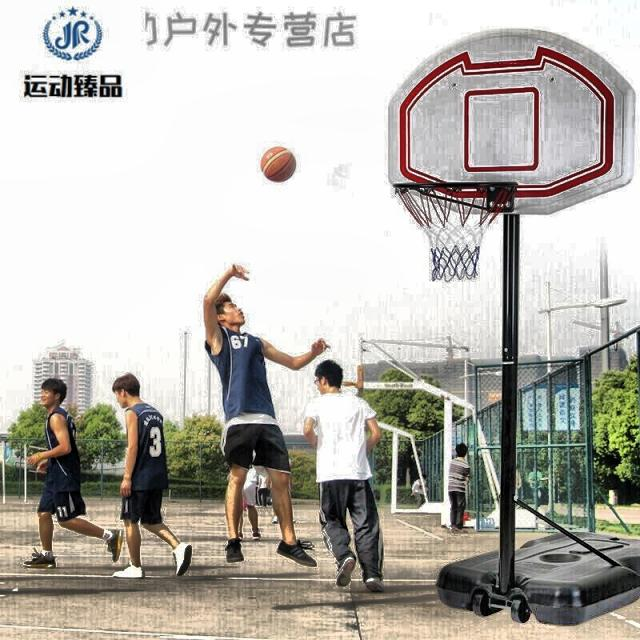board: (261, 145, 297, 183)
rim: (392, 180, 515, 282)
